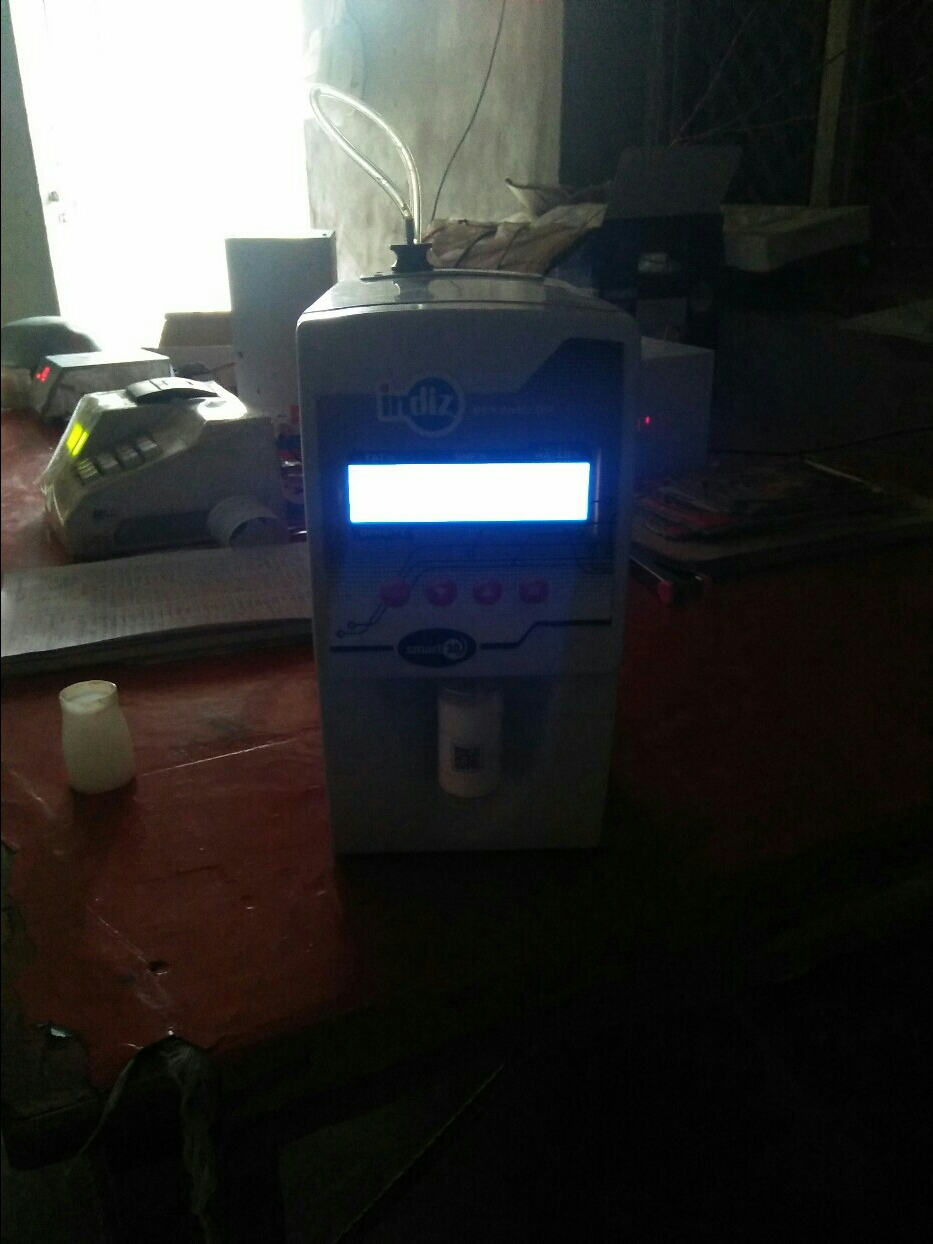lcd: (339, 454, 610, 535)
qr: (444, 739, 495, 778)
